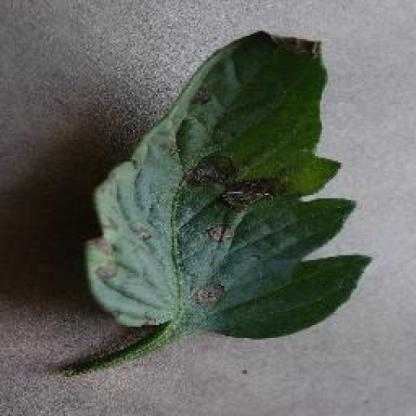Tomato_Blight: (89, 32, 372, 333)
